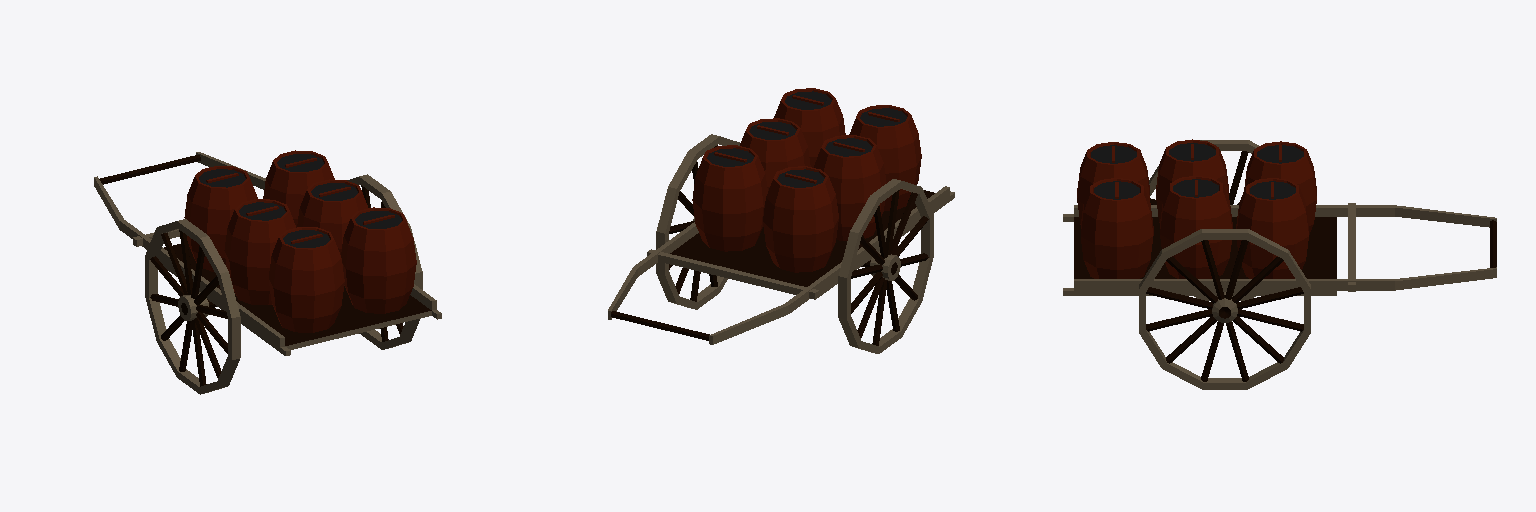
File: Wagon_B.obj
3 renders of one model, left to right at view 1: azimuth 30°, elevation 25°; view 2: azimuth 150°, elevation 25°; view 3: azimuth 270°, elevation 25°, orthographic.
Parts seen in each view (by area): view 1: Wagon_B; view 2: Wagon_B; view 3: Wagon_B.
Part boxes in pixels (left/top/right/bottom): Wagon_B: left=94, top=150, right=441, bottom=394; Wagon_B: left=608, top=88, right=954, bottom=353; Wagon_B: left=1063, top=139, right=1496, bottom=389.
Bounding box in the file's own units: 7.57 × 6.35 × 14.39.